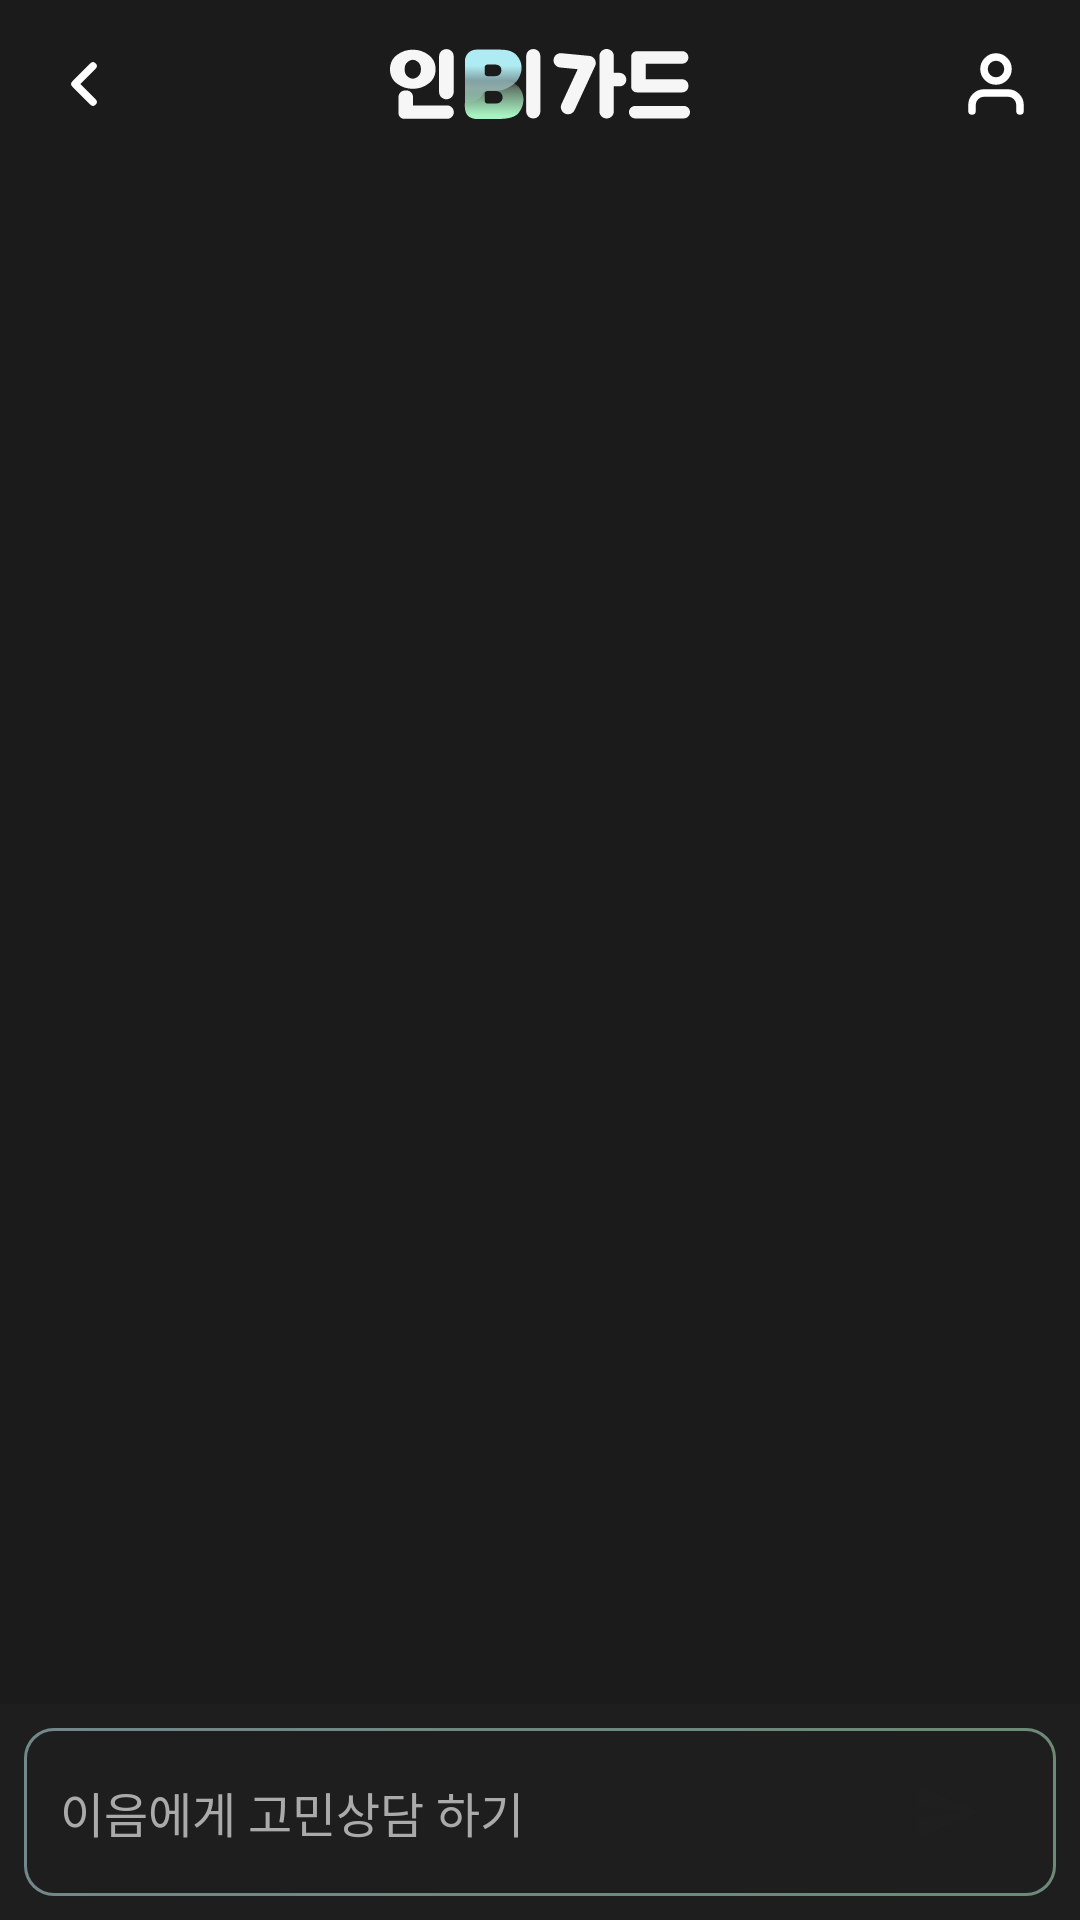

Screen size 1080 × 1920. Icon name, then its center in pixels as point (x, y):
left: point (84, 84)
user: point (996, 84)
